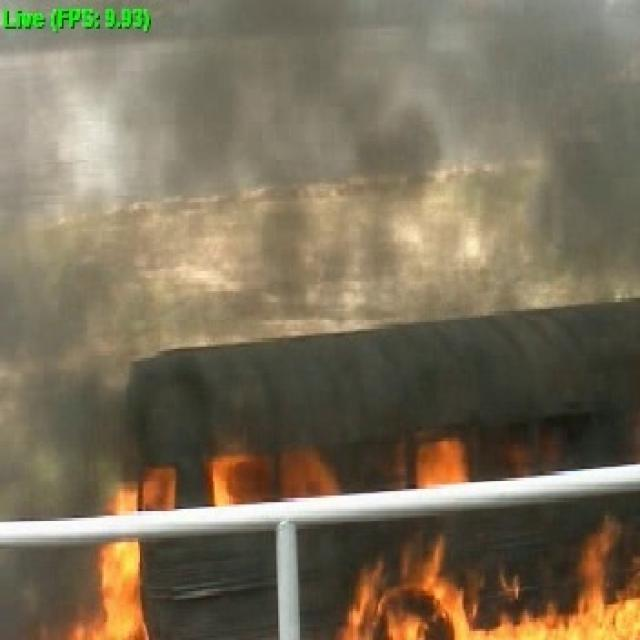Fire: (70, 433, 640, 640)
Smoke: (59, 26, 640, 362)
